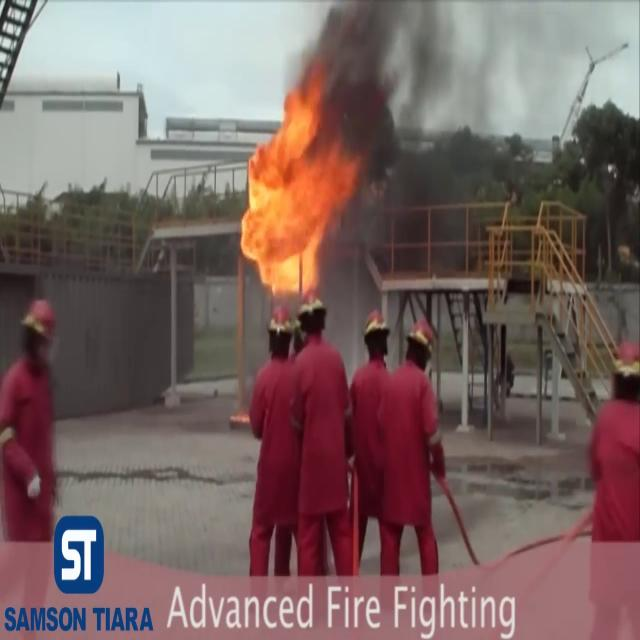Fire: (237, 82, 358, 296)
Smoke: (295, 0, 459, 172)
